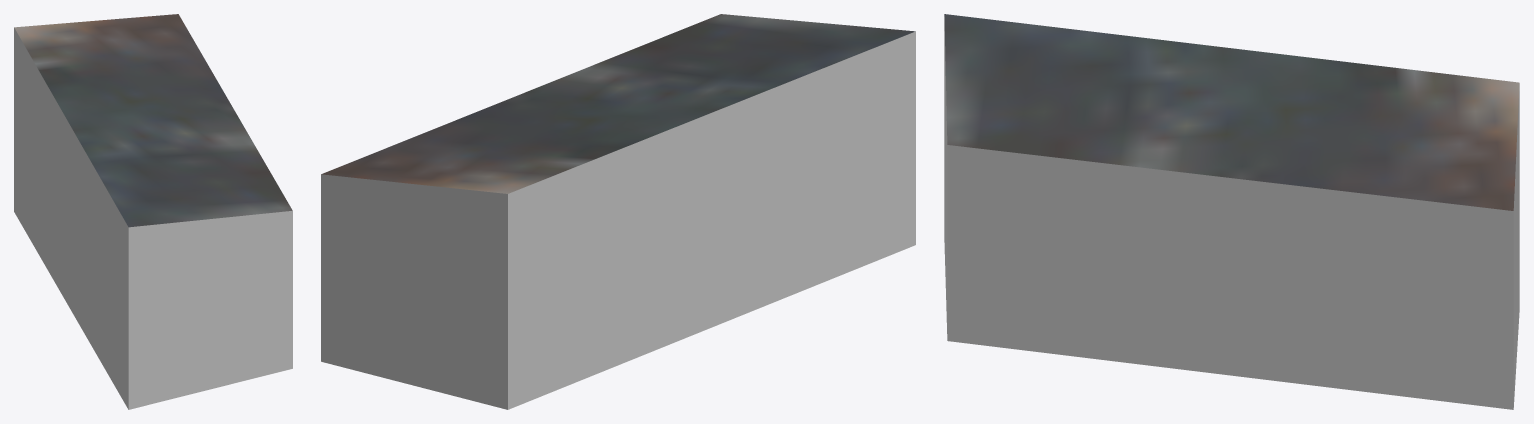
The model's file is DEBW_0010007Tx3h.gltf.
The picture shows the model from 3 angles, left to right: view 1: azimuth 30°, elevation 25°; view 2: azimuth 150°, elevation 25°; view 3: azimuth 270°, elevation 25°; orthographic projection. The views are drawn at different scales.
Parts seen in each view (by area): view 1: Z_UP; view 2: Z_UP; view 3: Z_UP.
Part boxes in pixels (left/top/right/bottom): Z_UP: left=14, top=14, right=292, bottom=409; Z_UP: left=321, top=14, right=915, bottom=409; Z_UP: left=944, top=14, right=1519, bottom=409.
Size of the model in its own units: 4.1 by 2.59 by 5.89.
Materials: 2 (1 with a texture image).
